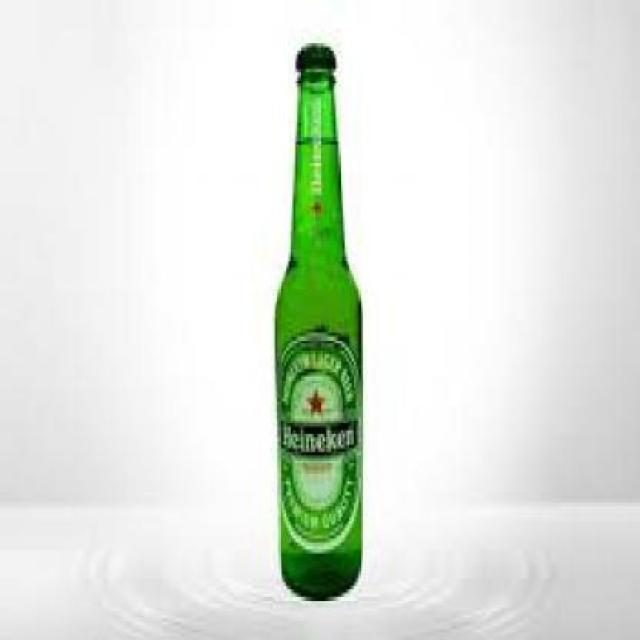kaca: (274, 40, 361, 597)
